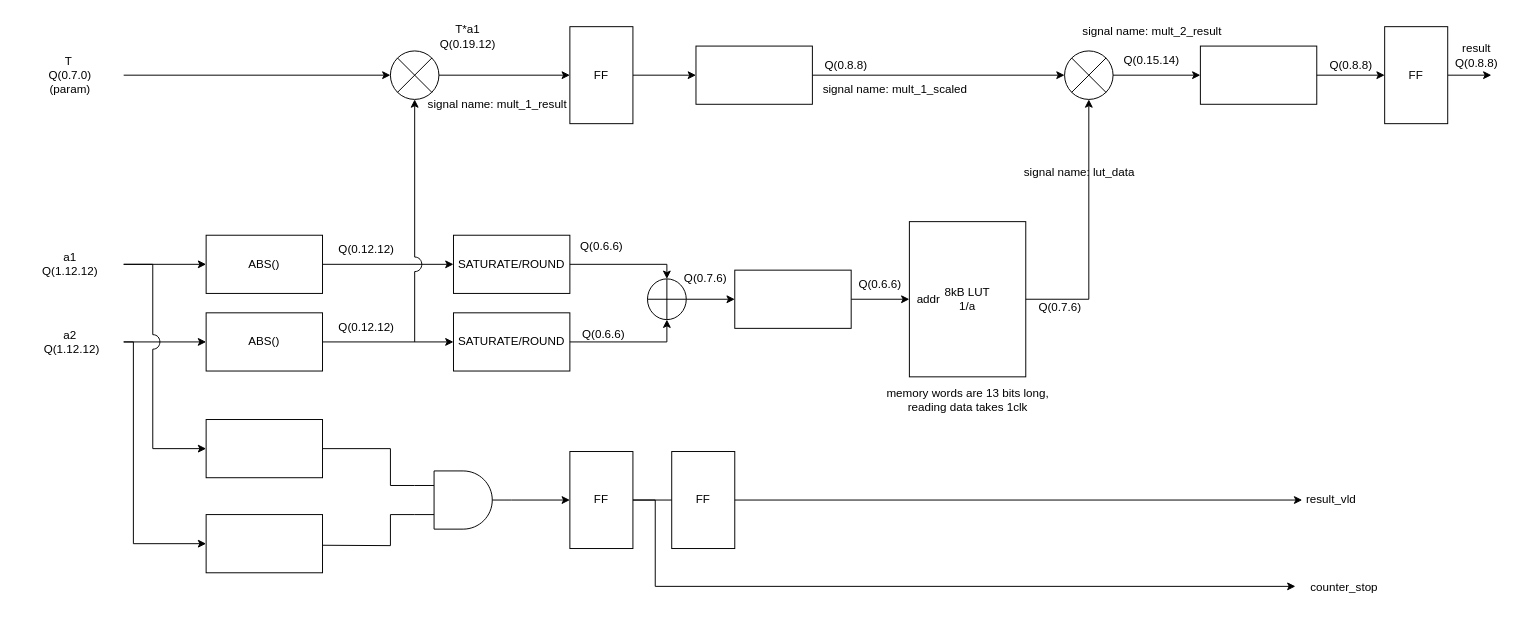
This 1522x618 diagram has some shape labels left out. The shapes that lost their labels are listed below. From the top down, each one's centre as x and y in pixels, then its label:
At (x=753, y=74): "SAT & TRUNC".
At (x=1258, y=74): "SAT & ROUND".
At (x=792, y=298): "SATURATE".
At (x=264, y=448): "a1 < 0".
At (x=264, y=543): "a2 > 0".
